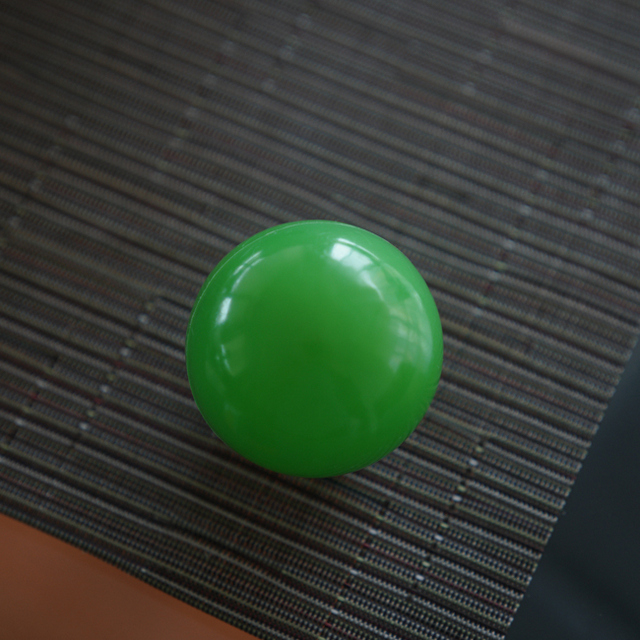Ball: (184, 219, 437, 469)
